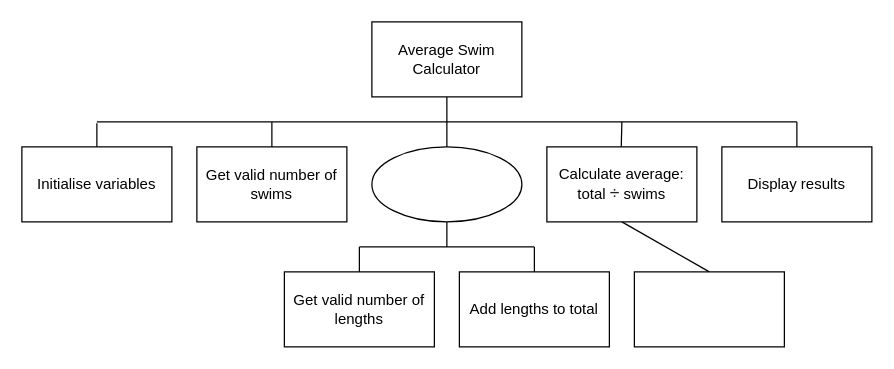
The diagram is 894 pixels wide and 369 high, and some of its shapes have lost their labels. Here are the shapes that lost their labels. From the top down, the centre of each, then its label:
At point 446,184: "Loop for each swim".
At point 708,309: "Round average to 1 decimal place".
